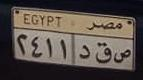1: (58, 34, 70, 64), (45, 34, 53, 60)
2: (15, 33, 28, 57)
4: (28, 35, 43, 58)
daal: (79, 41, 91, 59)
qaaf: (95, 40, 111, 64)
saad: (113, 46, 132, 63)
